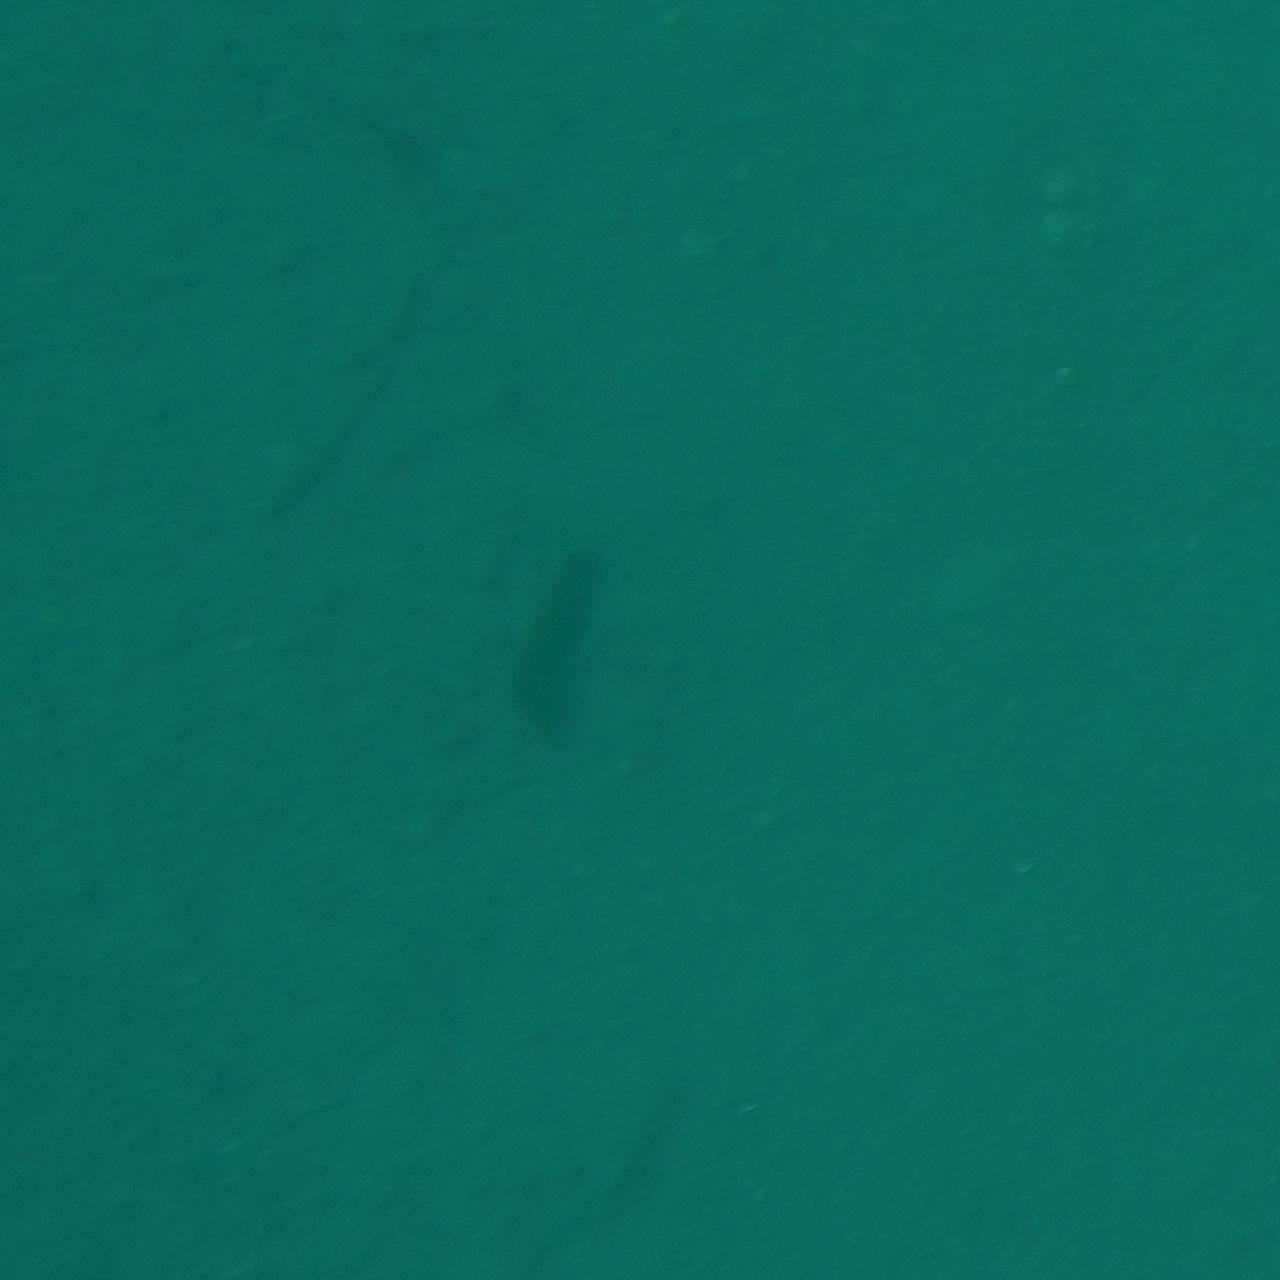Holothuria tubulosa: (493, 533, 620, 747)
